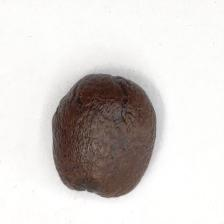NG: (71, 73, 135, 124)
